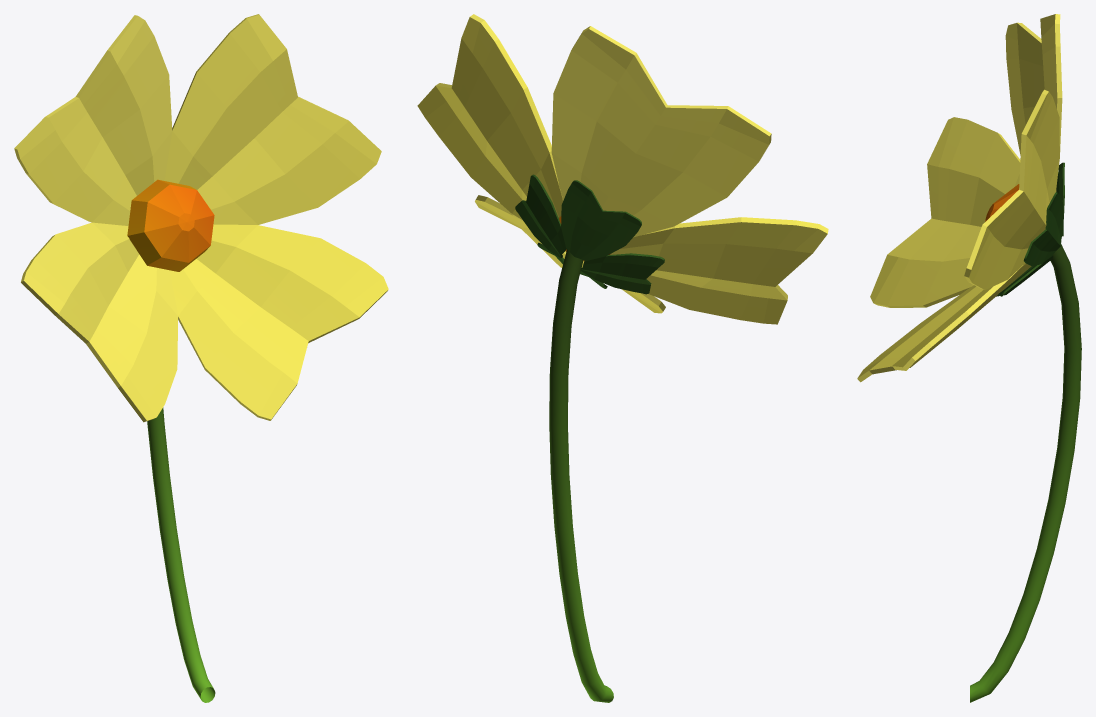
The model's file is Flower05A.fbx.
3 renders of one model, left to right at view 1: azimuth 30°, elevation 25°; view 2: azimuth 150°, elevation 25°; view 3: azimuth 270°, elevation 25°, orthographic. The views are drawn at different scales.
Visible parts, largest first — view 1: Flower05A_LOD0; view 2: Flower05A_LOD0; view 3: Flower05A_LOD0.
Part boxes in pixels (x1,y1,x2,y2): Flower05A_LOD0: (14,14,388,702); Flower05A_LOD0: (417,14,828,702); Flower05A_LOD0: (857,14,1081,702).
Size of what is drawn, in the model's own units: 47.72 by 81.79 by 24.7.
